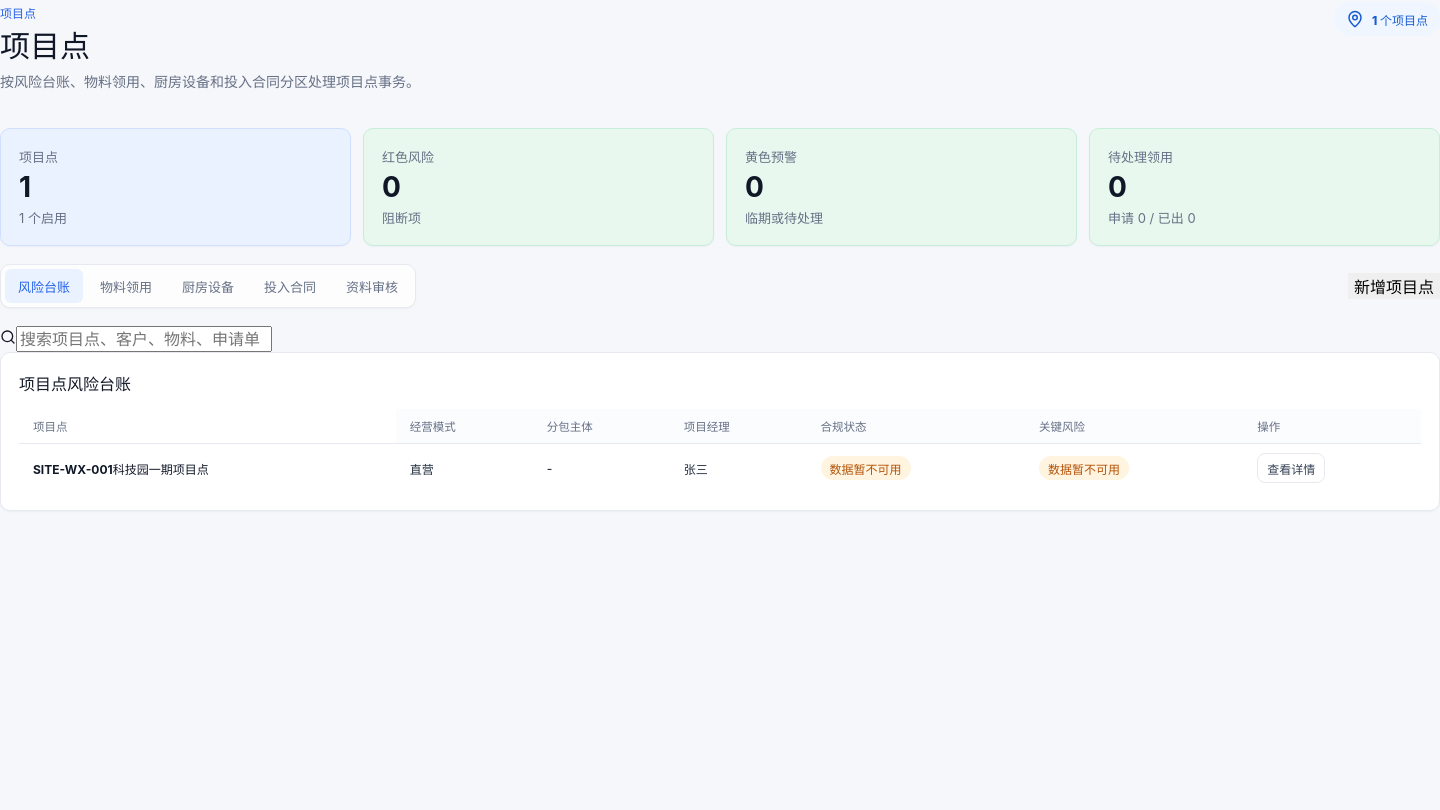
Test: Company ERP workspace components › shows unified business attachment references in project-site details
Click the text "SITE-WX-001" at x=73, y=470, box [33,462,113,477]
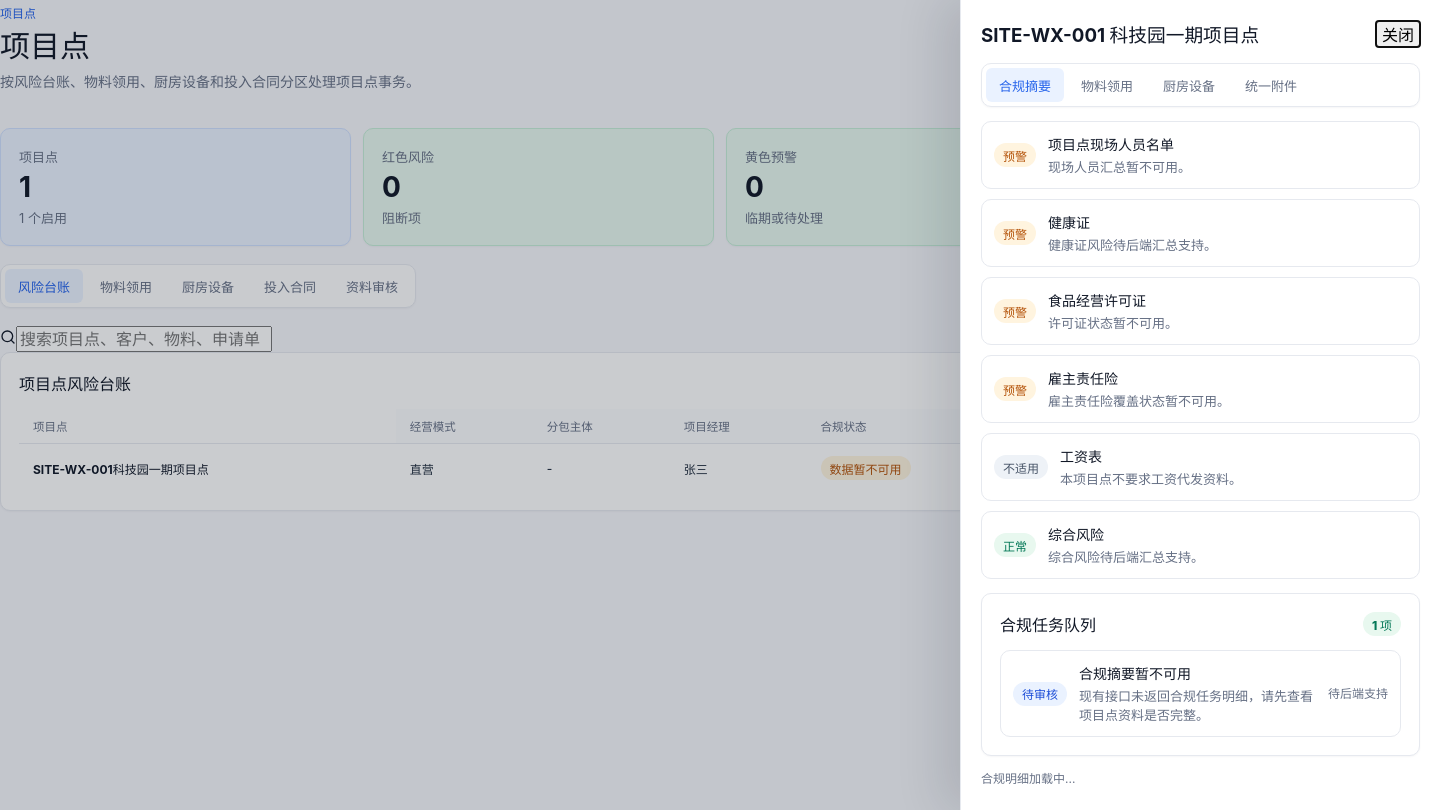
Click the tab "统一附件" at x=1271, y=85, box [1232,68,1310,102]
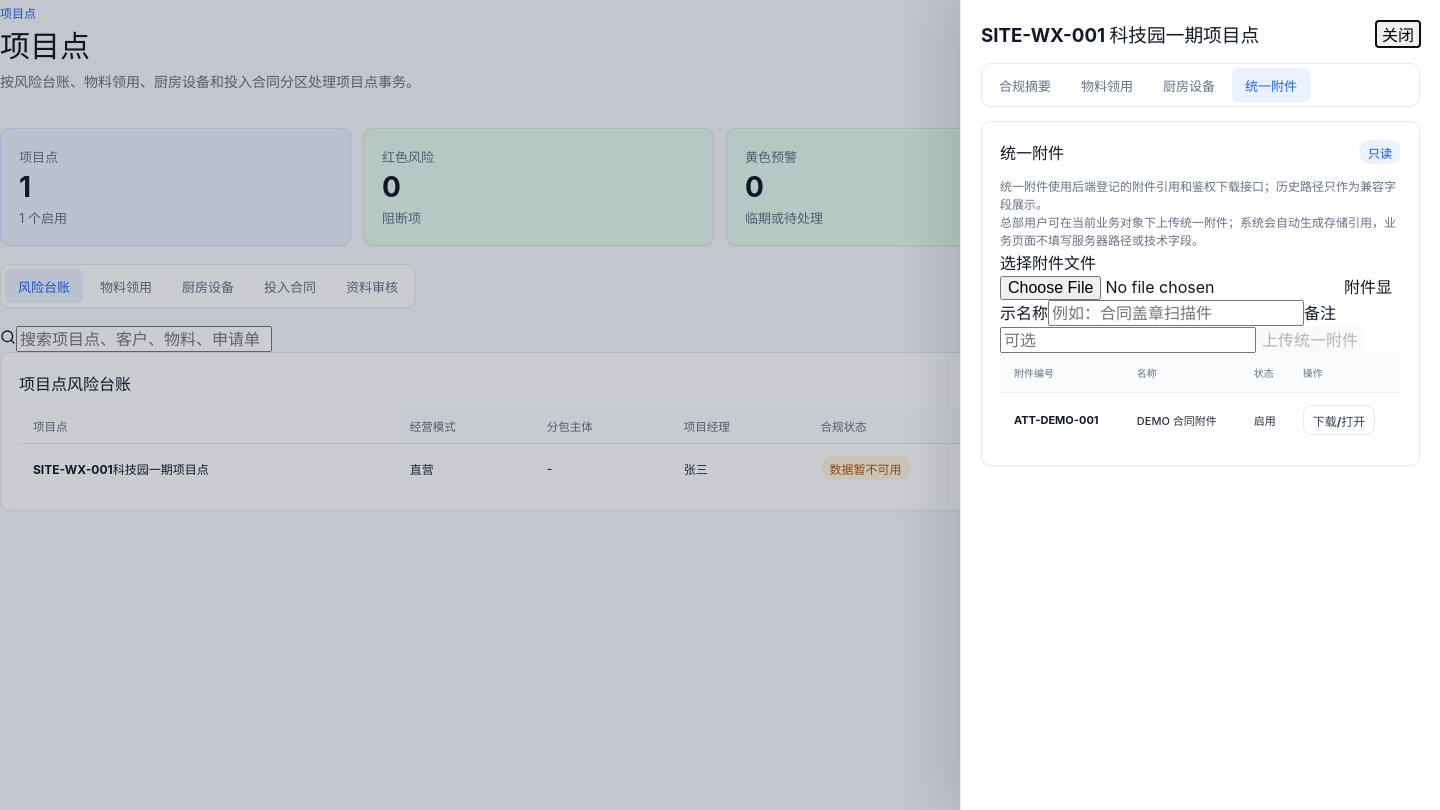
expect the text "DEMO 合同附件" is shown: met, box [1127,392,1244,447]
